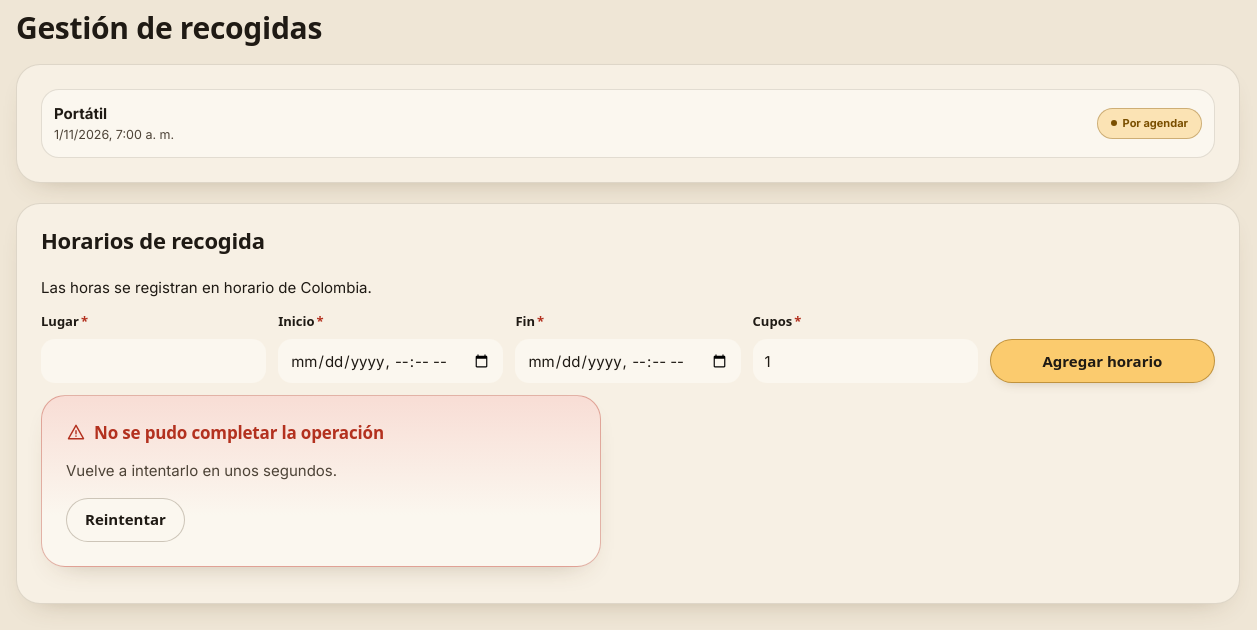
Test: pickup screens › retries staff slot errors without losing the pickup list
Click the button "Reintentar" at x=125, y=520, box [66, 498, 185, 542]
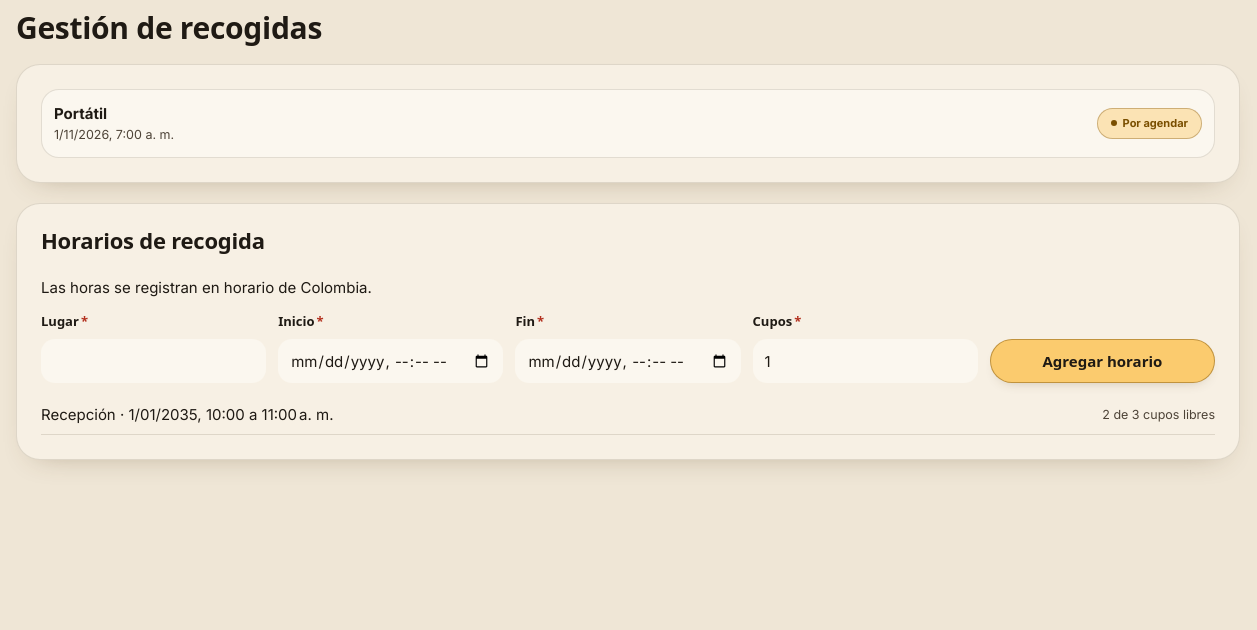
Expected: the text "Portátil" is shown, [54, 104, 107, 123]
Now the text "2 de 3 cupos libres" is shown, box [1102, 405, 1215, 424]
